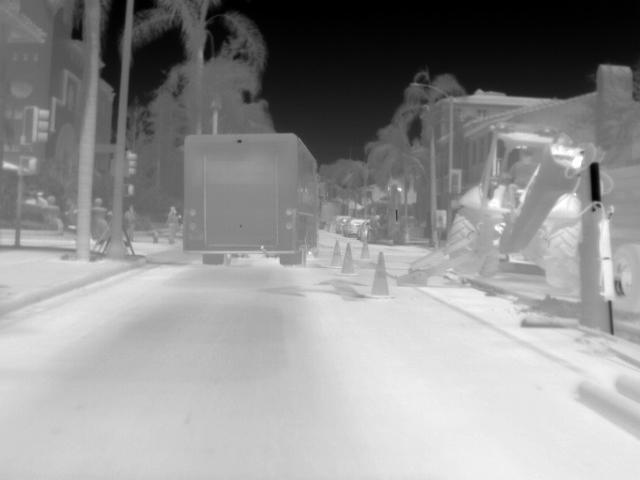car: (345, 219, 373, 239), (334, 214, 354, 235)
person: (165, 204, 181, 248), (123, 202, 139, 243)
